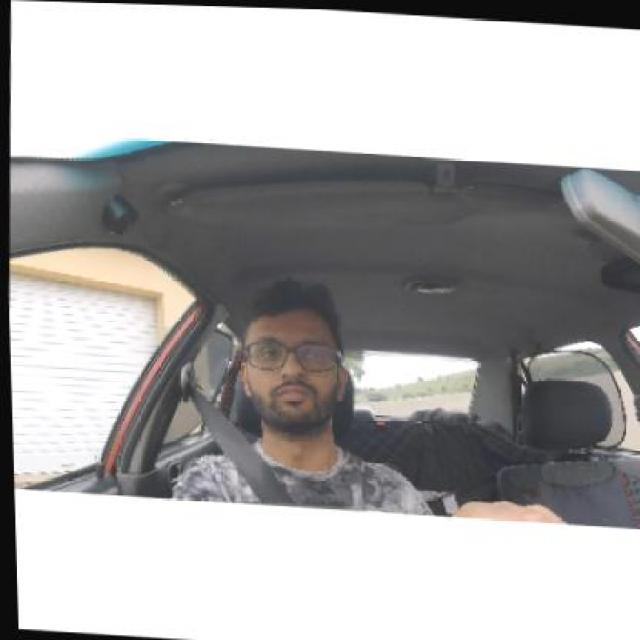person: (229, 276, 358, 457)
